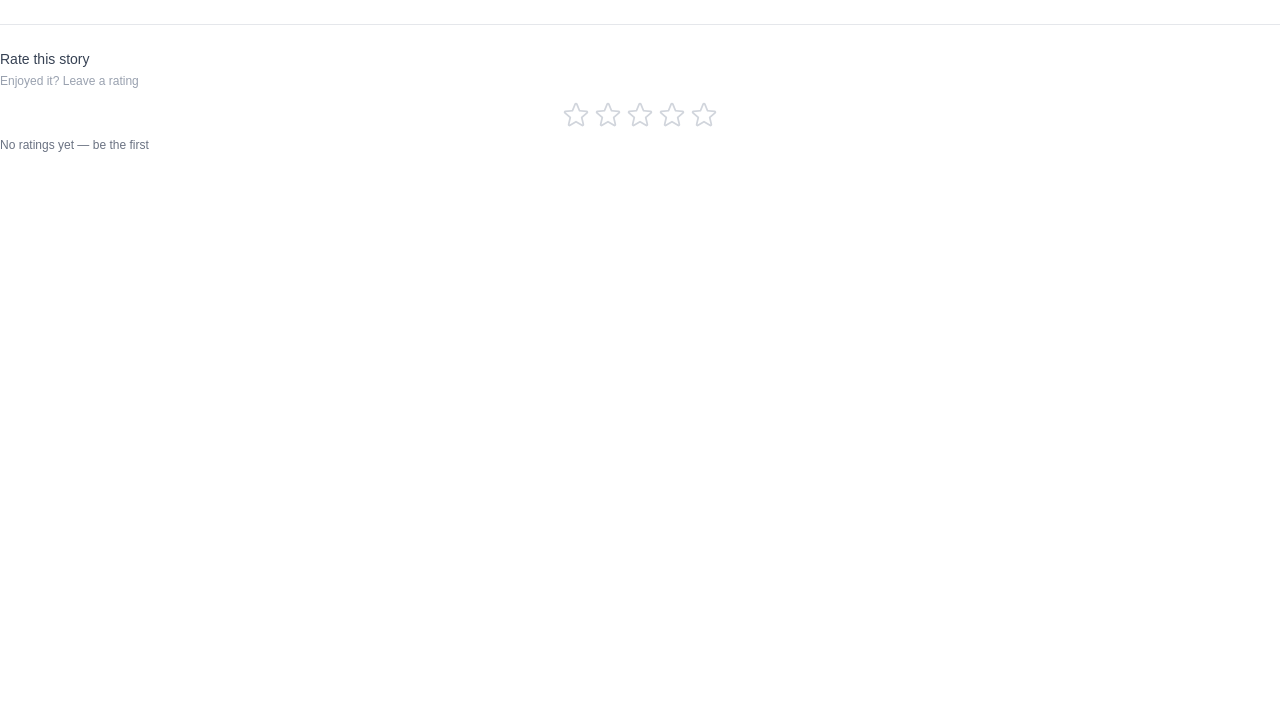
RatingWidget › 点星后 POST 打分并弹出留言框
Click the radio button named "5" at (704, 115), box top-left (690, 101), bottom-right (718, 129)
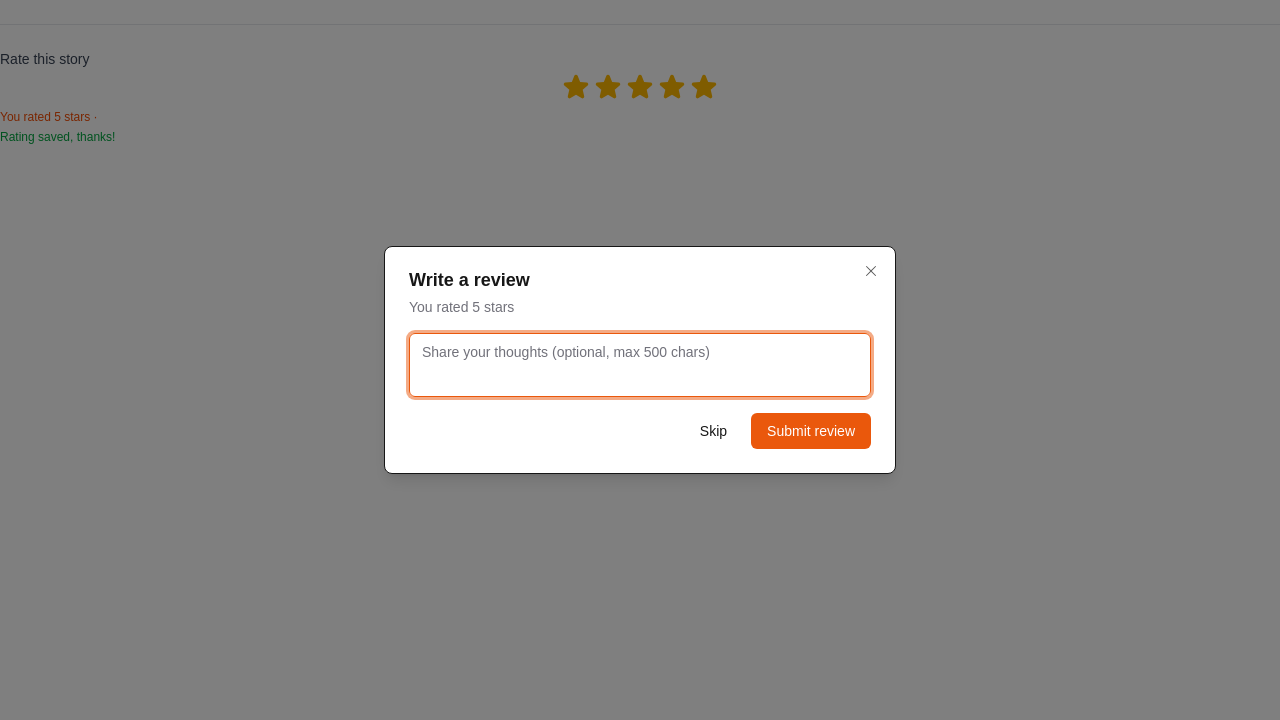
Now the dialog is shown, box top-left (384, 246), bottom-right (896, 474)
Now the text "You rated 5 stars ·" is shown 2 times, box top-left (0, 110), bottom-right (98, 124); top-left (409, 299), bottom-right (514, 315)
